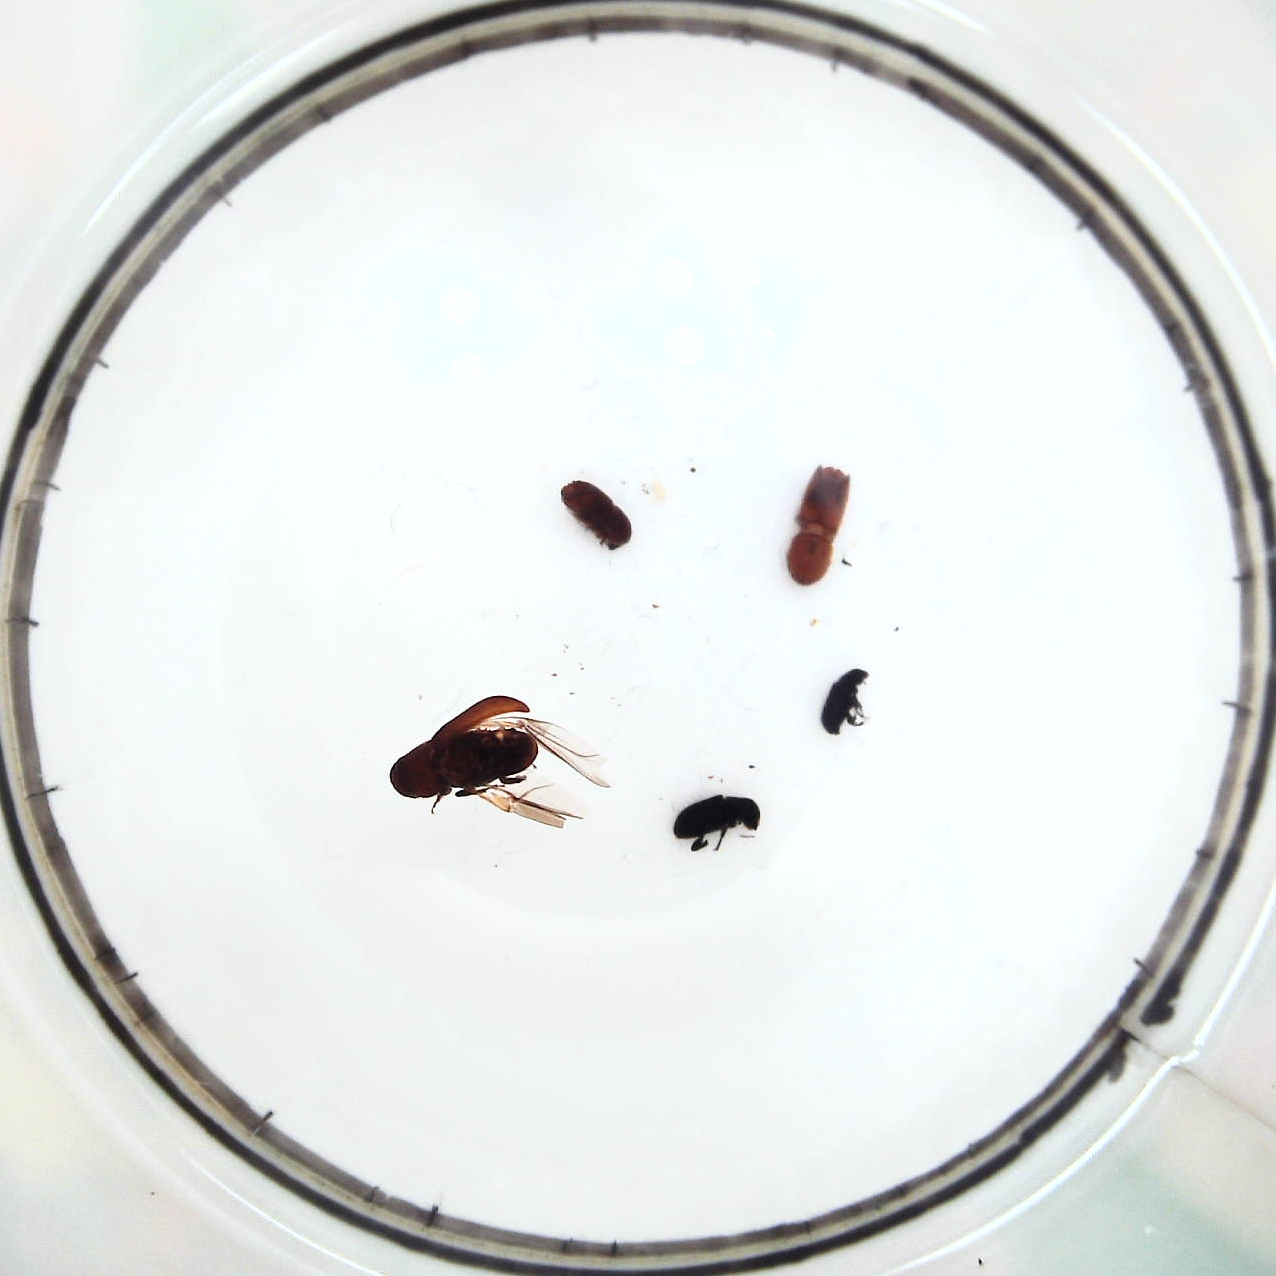Boerner: (788, 462, 849, 587)
Leconte: (389, 693, 611, 838)
Linnaeus: (560, 480, 634, 550)
armandi: (672, 795, 765, 849)
coleoptera: (817, 668, 869, 738)
